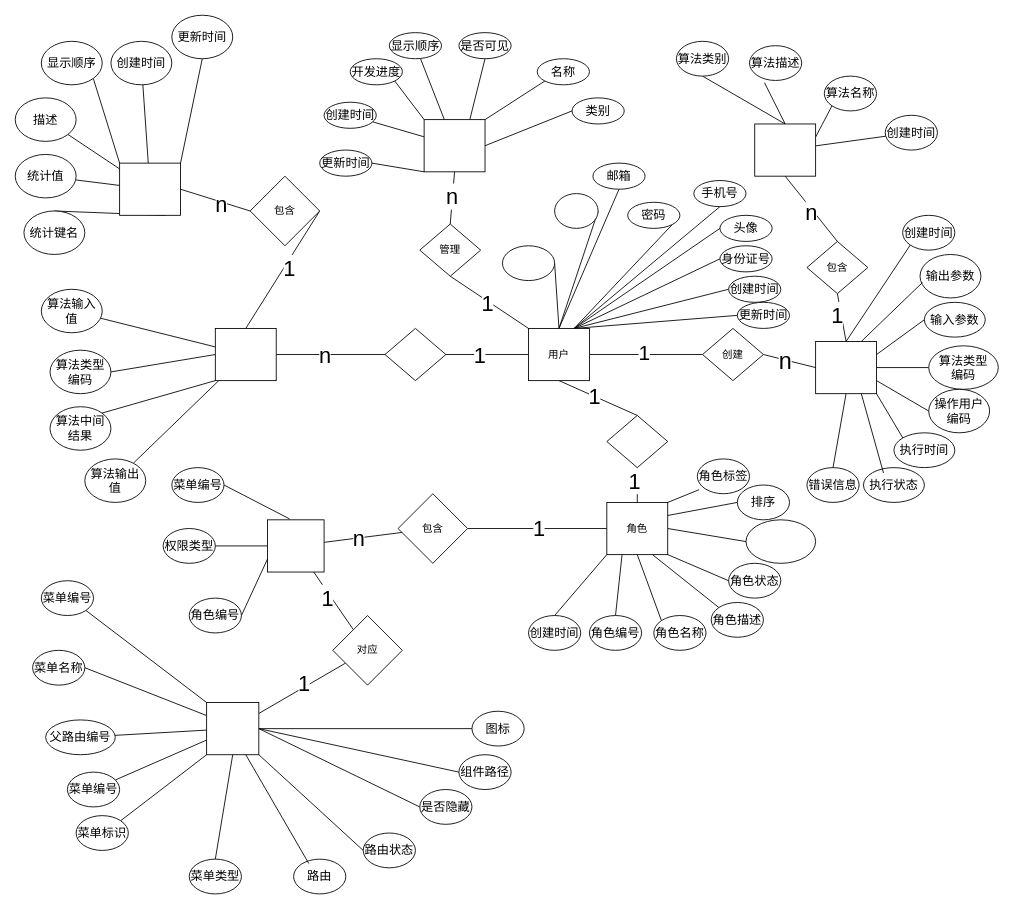
Image size: 1014x909. Some labels were removed from this diagram. The box of each missing label's shape, as (x1, y1, x2, y2) in pixels:
属于: (606, 415, 668, 468)
最后更新时间: (745, 519, 816, 563)
权限: (267, 519, 324, 572)
用户 编号: (502, 245, 555, 281)
用户名: (554, 193, 598, 228)
算法: (214, 328, 276, 381)
算法执行记录: (815, 341, 877, 394)
算法类型: (754, 123, 816, 176)
算法进度: (423, 119, 485, 172)
统计数据: (119, 162, 181, 215)
菜单: (206, 702, 259, 755)
运行: (384, 328, 446, 381)
